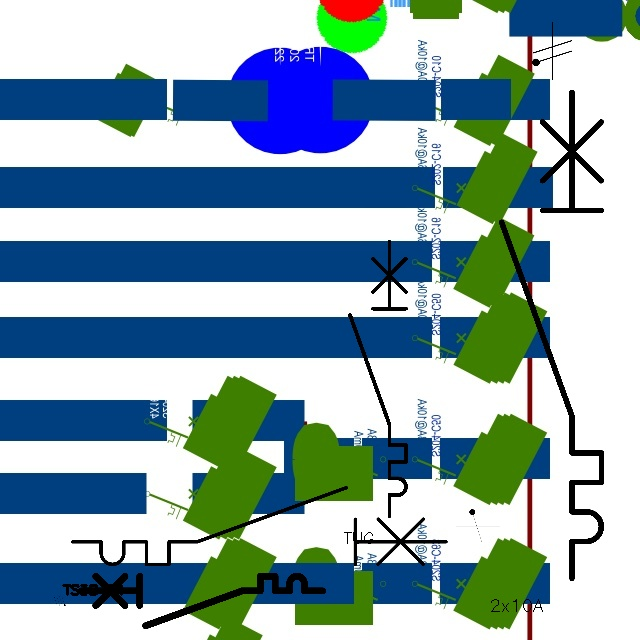interruptor_termomagnetico: (489, 79, 614, 590), (63, 478, 455, 574), (343, 235, 413, 523), (74, 570, 328, 632)
